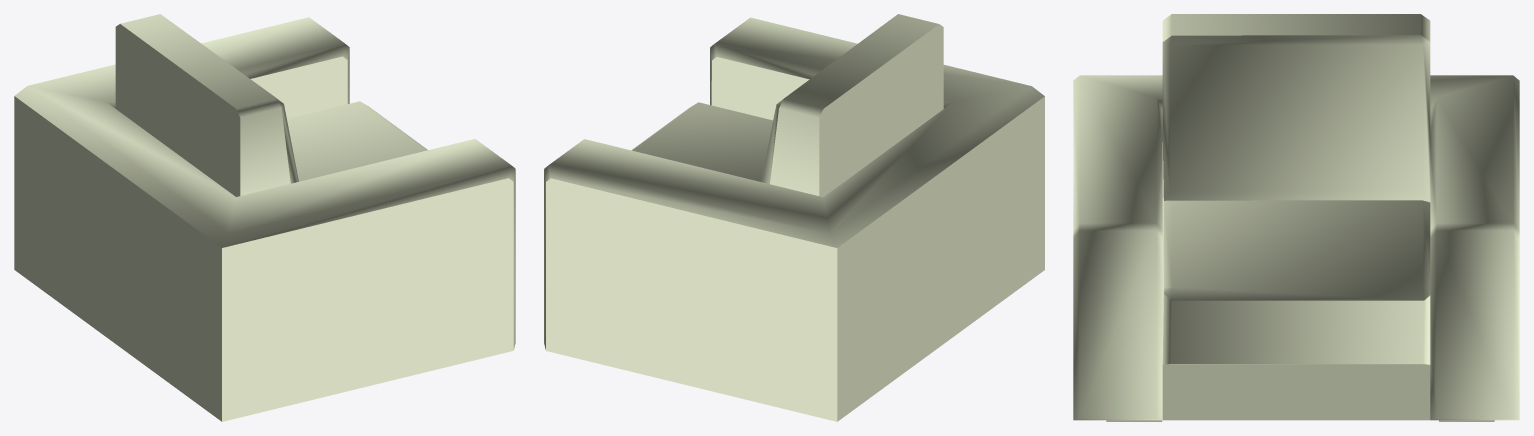
File: cotf_armchair.FBX
3 renders of one model, left to right at view 1: azimuth 30°, elevation 25°; view 2: azimuth 150°, elevation 25°; view 3: azimuth 270°, elevation 25°, orthographic. The views are drawn at different scales.
Visible parts, largest first — view 1: cotf_armchair; view 2: cotf_armchair; view 3: cotf_armchair.
Part boxes in pixels (x1,y1,x2,y2): cotf_armchair: [14, 14, 515, 421]; cotf_armchair: [544, 14, 1044, 421]; cotf_armchair: [1073, 14, 1519, 421].
Bounding box in the file's own units: 1.49 × 1.26 × 1.73.
